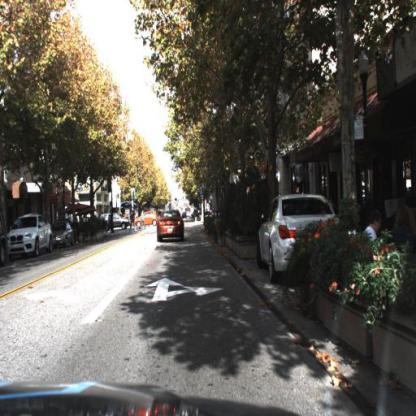car: (255, 191, 339, 286), (257, 186, 336, 284), (5, 214, 57, 262), (8, 209, 53, 259), (156, 209, 186, 245), (101, 213, 132, 233), (55, 218, 73, 249), (133, 208, 160, 228)
pedestrian: (130, 210, 138, 234), (140, 210, 147, 233)
